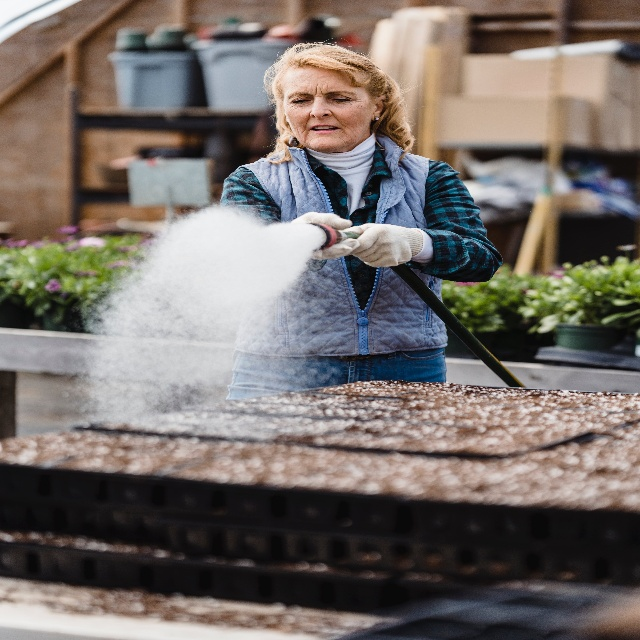Guantes: (342, 218, 423, 267), (288, 209, 358, 260)
